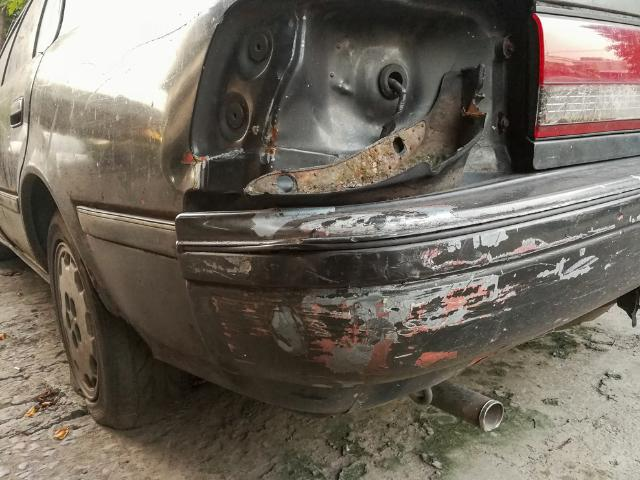Bumper: (174, 187, 640, 411)
Light: (207, 0, 537, 181)
